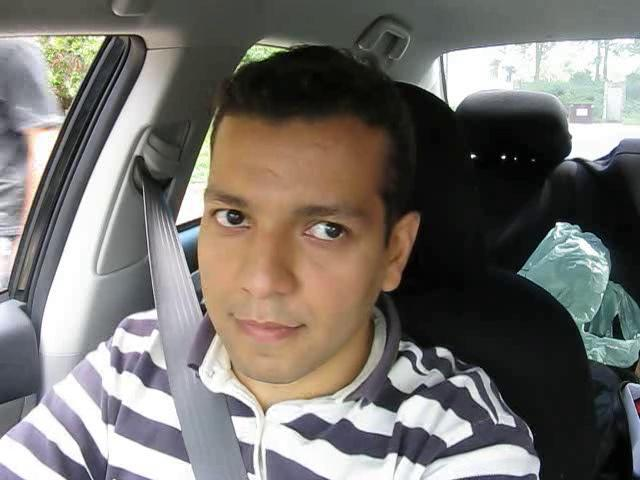no_yawn: (216, 304, 323, 350)
open_eyeL: (201, 196, 264, 238)
open_eyeR: (288, 208, 365, 251)
